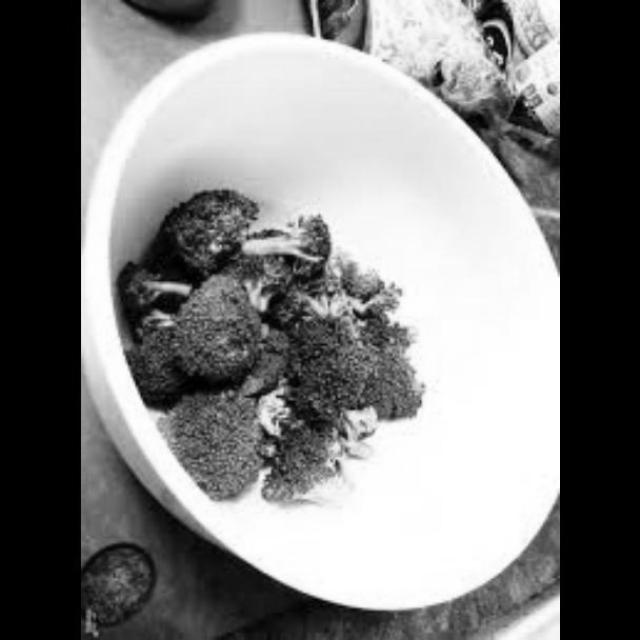bong cai xanh: (110, 166, 423, 502)
